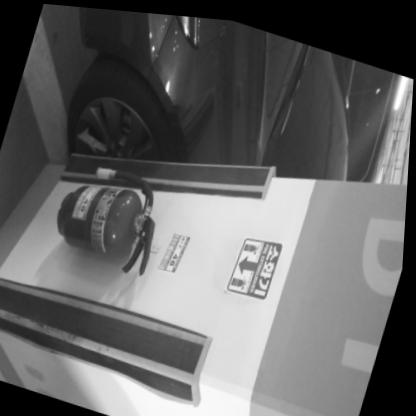FE: (47, 150, 175, 278)
